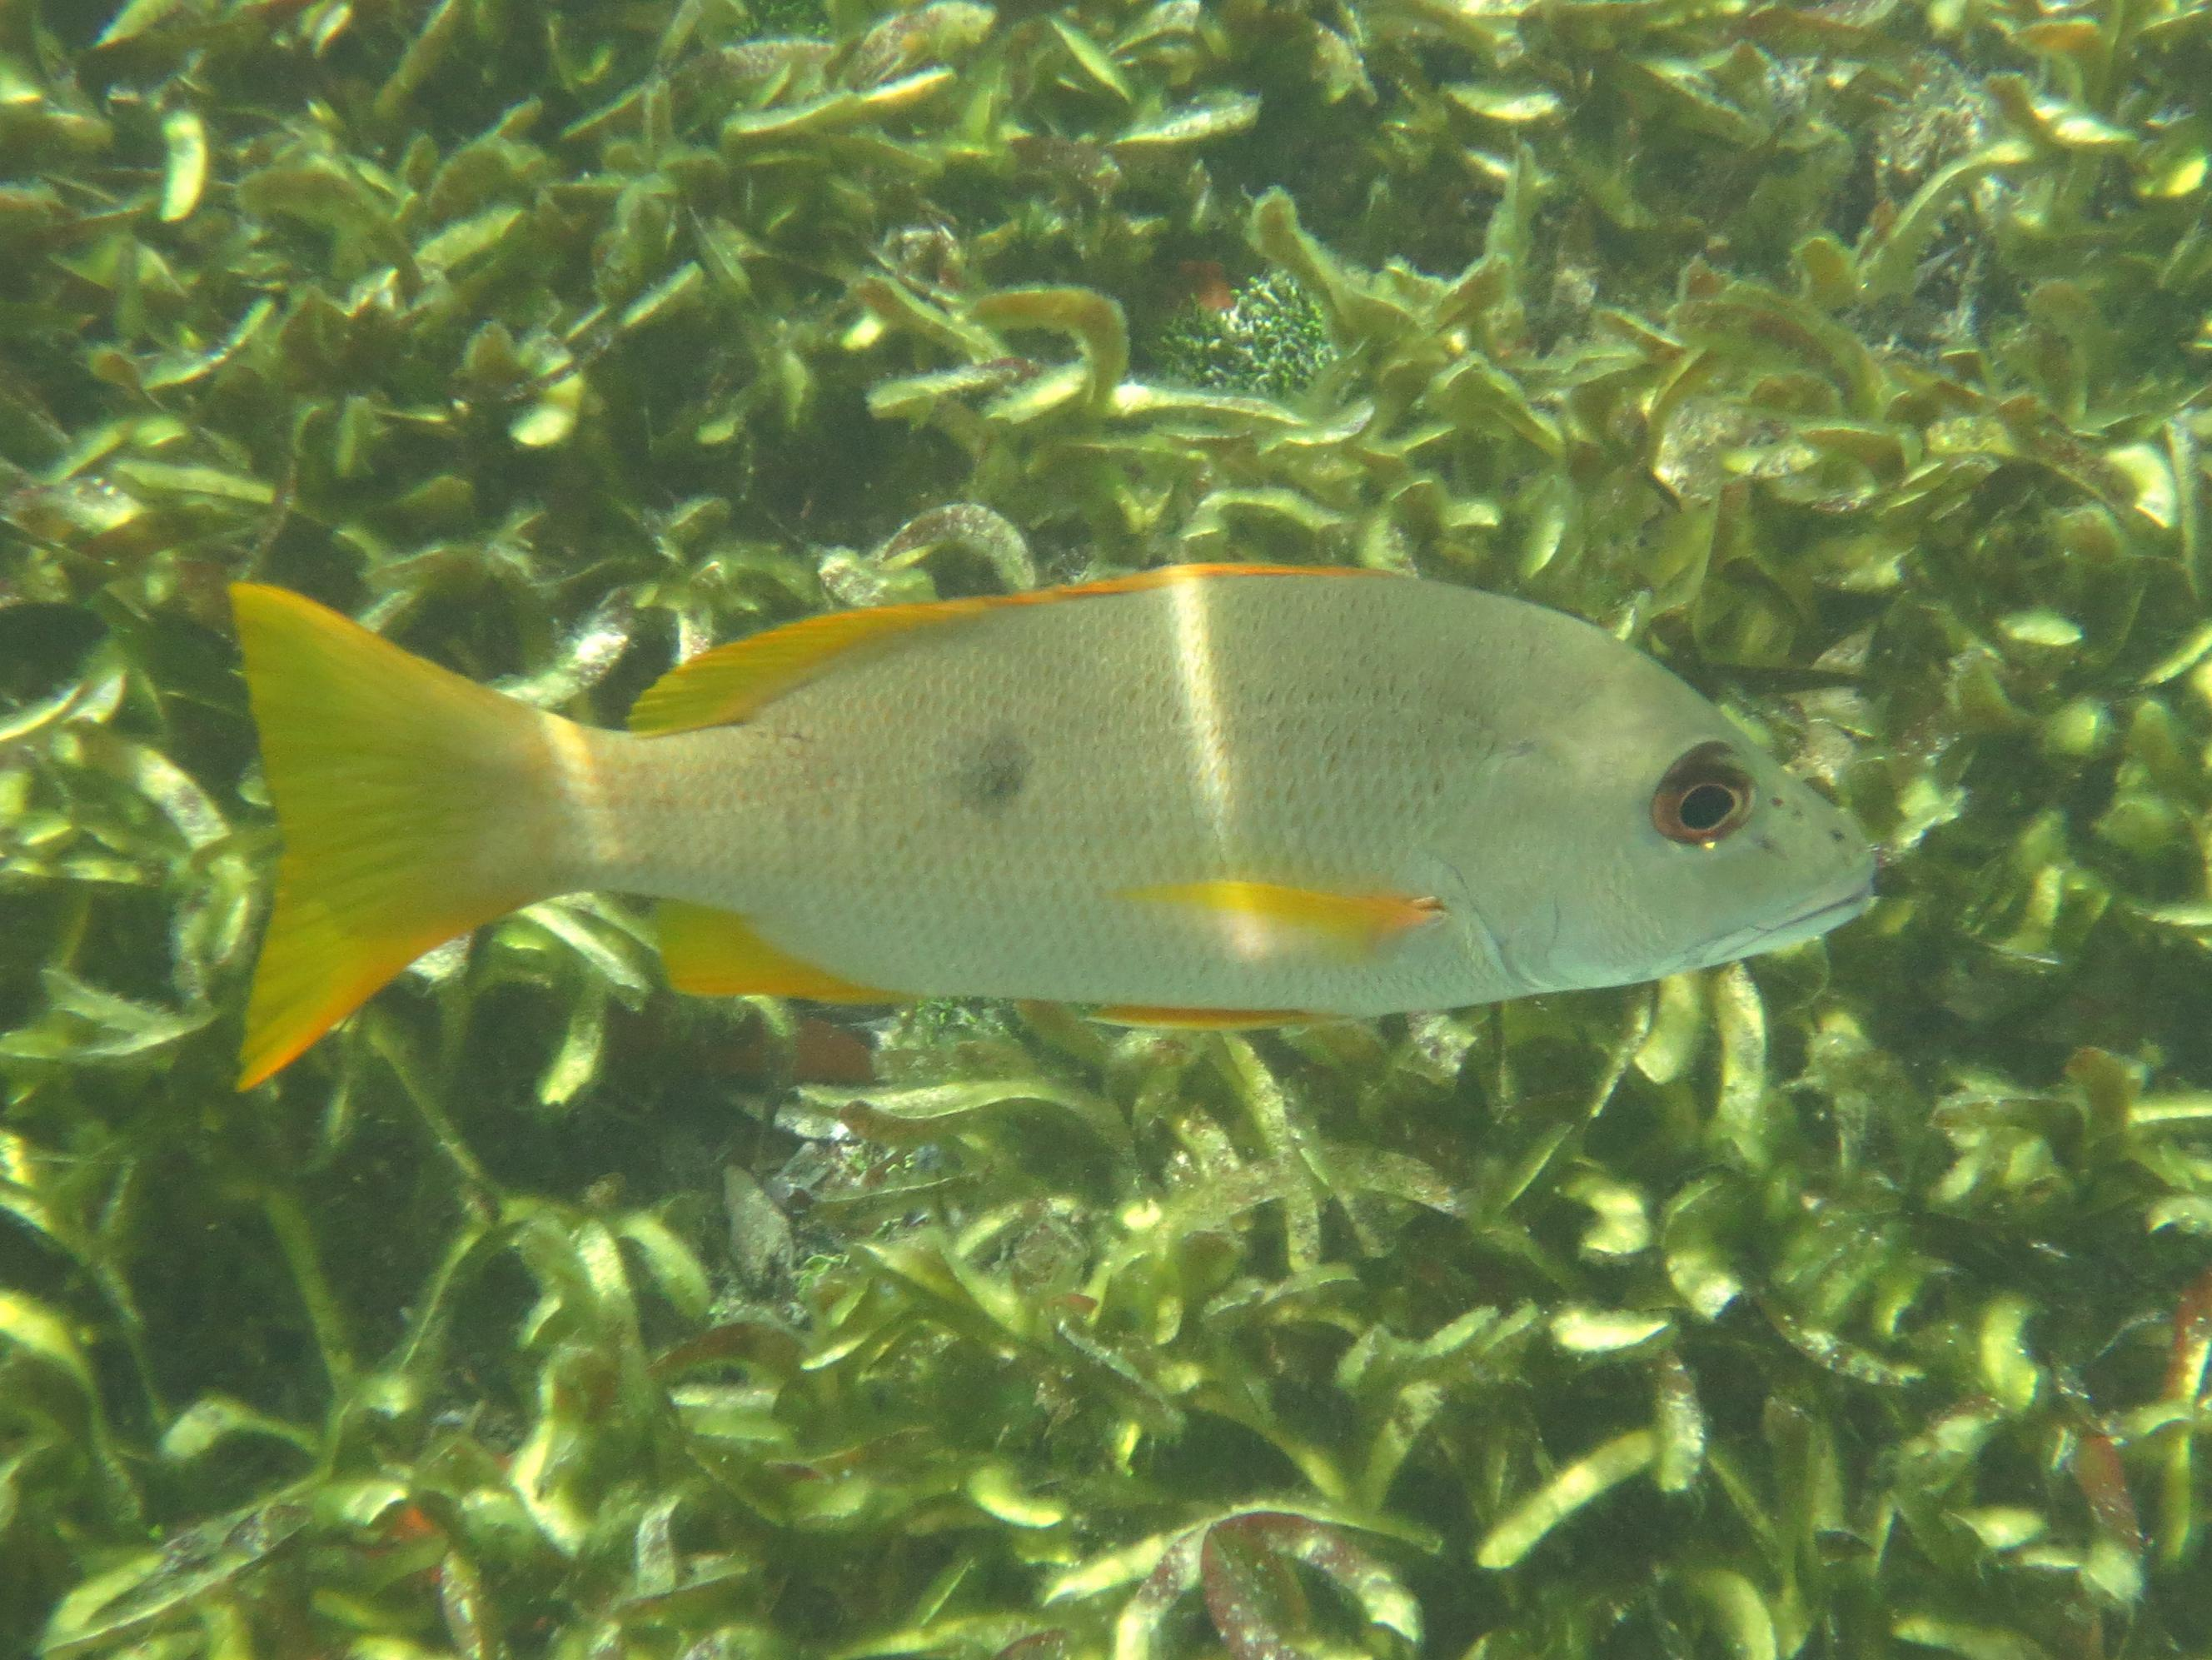Lutjanus monostigma: (180, 521, 1924, 1062)
